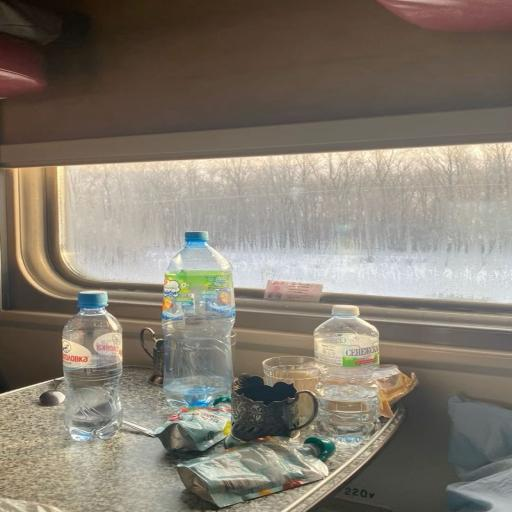bench: (163, 232, 235, 408), (314, 305, 379, 445), (63, 291, 122, 440)
stroller: (0, 383, 216, 511)
